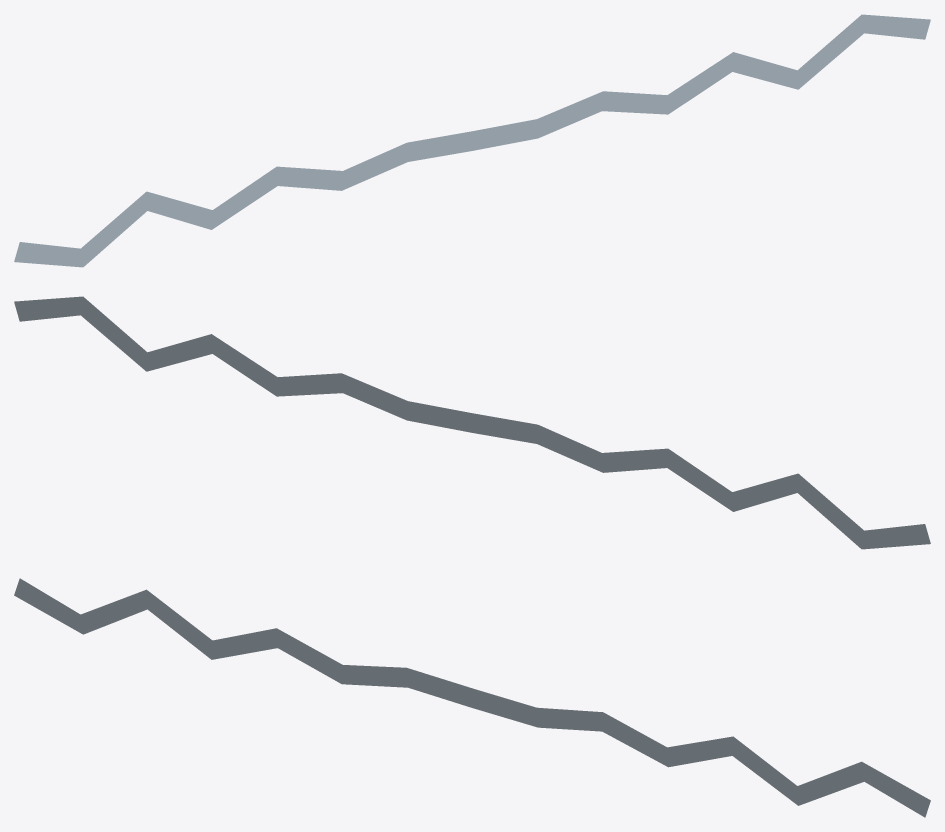
The model's file is 2029_HighVoltageArc_SynchronizedArc1Aura.fbx.
3 renders of one model, top to bottom at view 1: azimuth 30°, elevation 25°; view 2: azimuth 150°, elevation 25°; view 3: azimuth 330°, elevation 25°, orthographic.
Parts seen in each view (by area): view 1: PART_SynchronizedArc1Aura; view 2: PART_SynchronizedArc1Aura; view 3: PART_SynchronizedArc1Aura.
Boxes of the visible parts, x1,y1,x2,y2 form: PART_SynchronizedArc1Aura: (14,14,930,267); PART_SynchronizedArc1Aura: (14,296,930,549); PART_SynchronizedArc1Aura: (14,578,930,817).
Size of the model in its own units: 331 by 21.75 by 3.54e-06.
